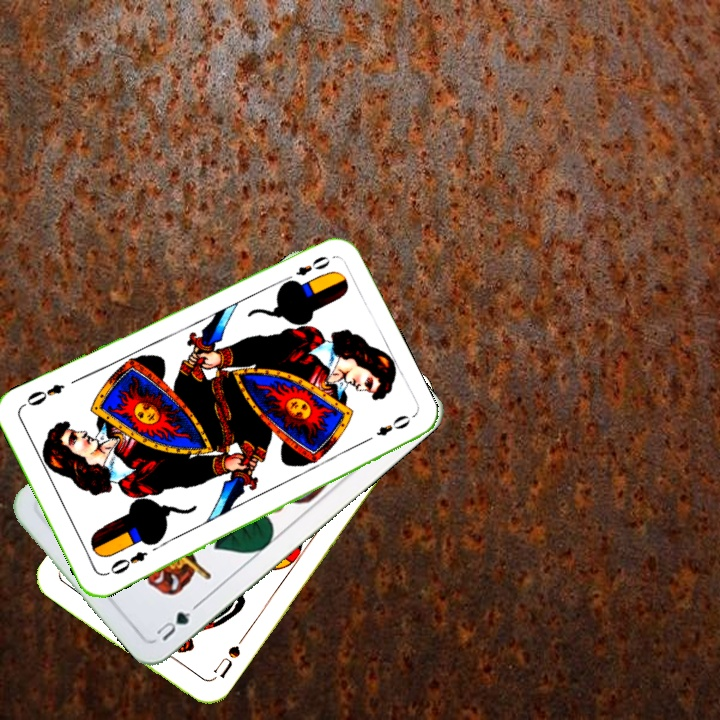EO: (279, 252, 333, 287), (101, 547, 150, 579)
GU: (152, 600, 201, 644)
SU: (206, 641, 243, 684)
